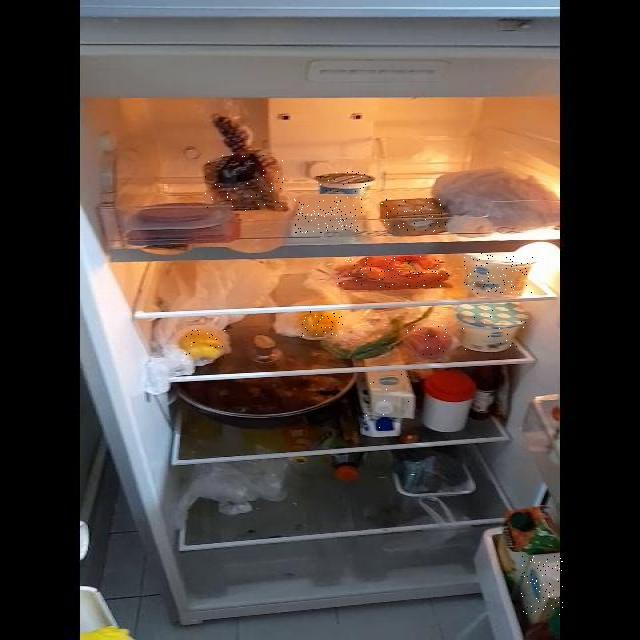bread: (206, 154, 286, 211)
butter: (380, 198, 446, 232)
carrot: (337, 256, 450, 288)
cheese: (294, 197, 362, 233)
lemon: (180, 327, 225, 360), (301, 311, 344, 337)
milk: (358, 373, 412, 436), (520, 556, 563, 617)
tomato: (406, 324, 454, 356)
yoghurt: (458, 304, 528, 351), (464, 253, 533, 294), (316, 171, 372, 193)
